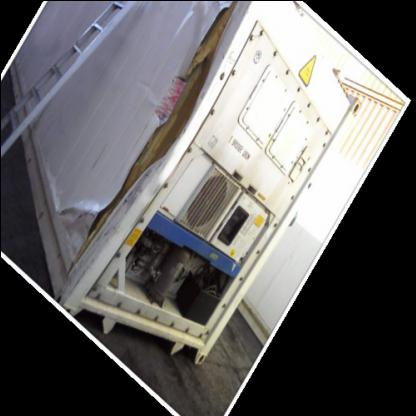Damage: (92, 9, 228, 312)
